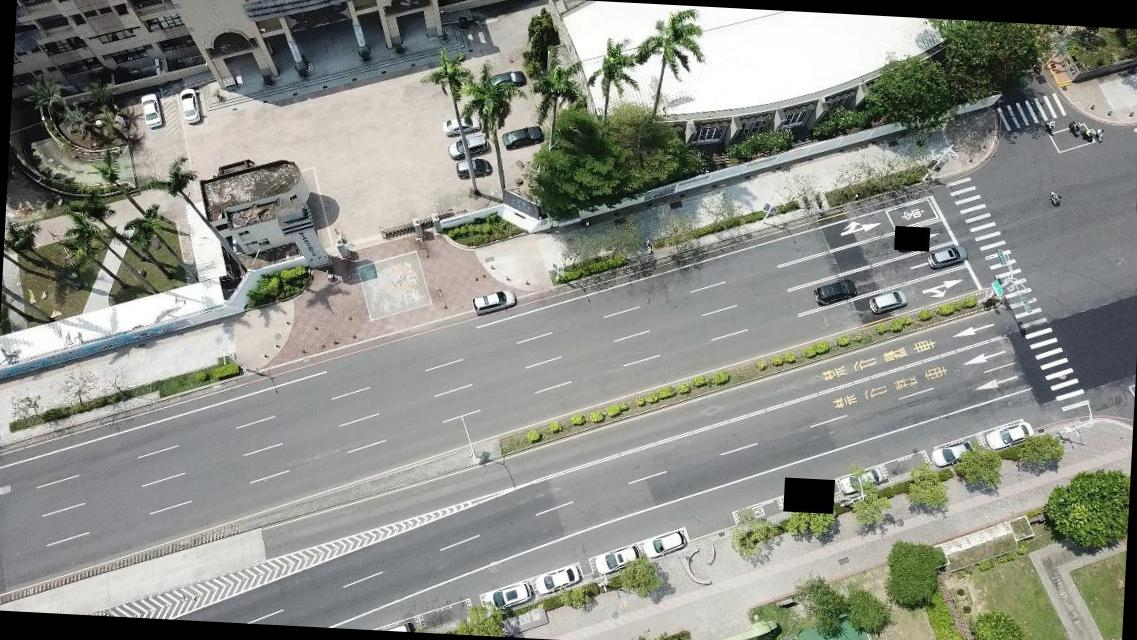vehicle: (534, 564, 581, 599), (985, 420, 1033, 451), (593, 544, 639, 575), (483, 581, 530, 611), (642, 530, 686, 560), (812, 278, 856, 307), (926, 242, 968, 272), (472, 289, 516, 317), (501, 124, 545, 152), (930, 440, 973, 468), (843, 468, 882, 496), (446, 134, 488, 160), (869, 288, 907, 316), (136, 91, 164, 128), (487, 68, 524, 95), (179, 88, 204, 126), (442, 114, 480, 138), (456, 158, 492, 181)
